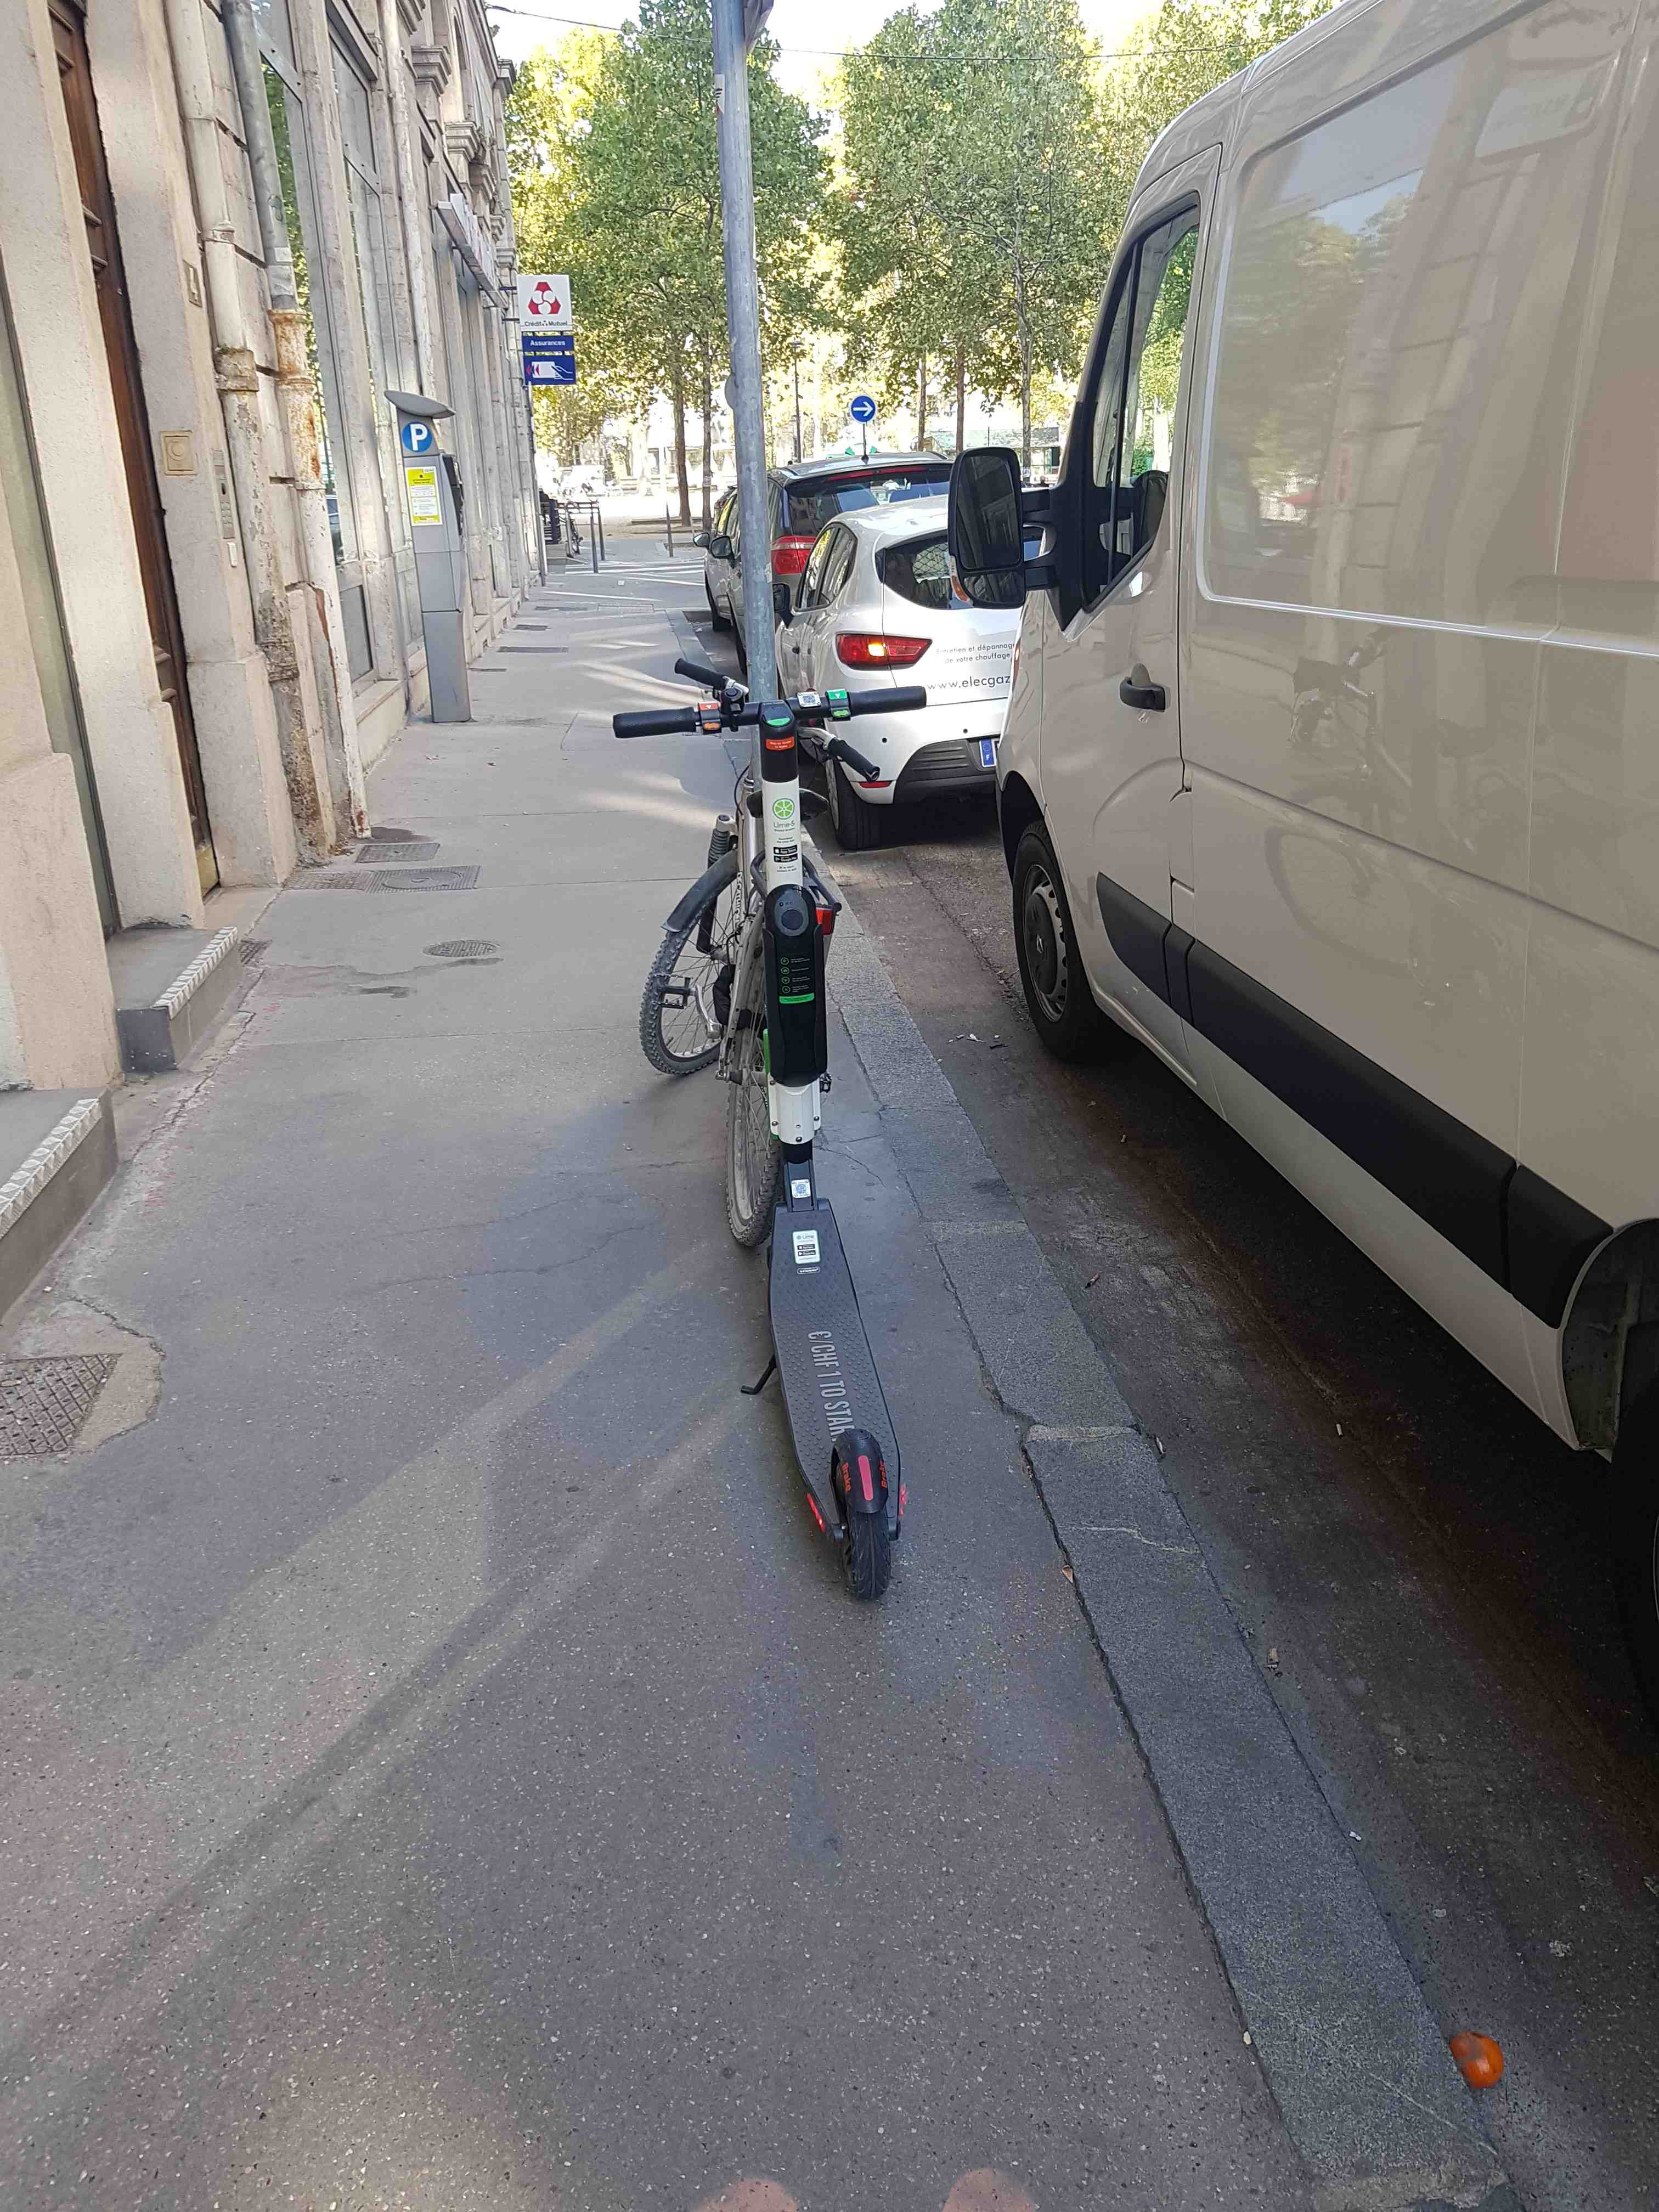scooter: (598, 725, 1044, 1616)
